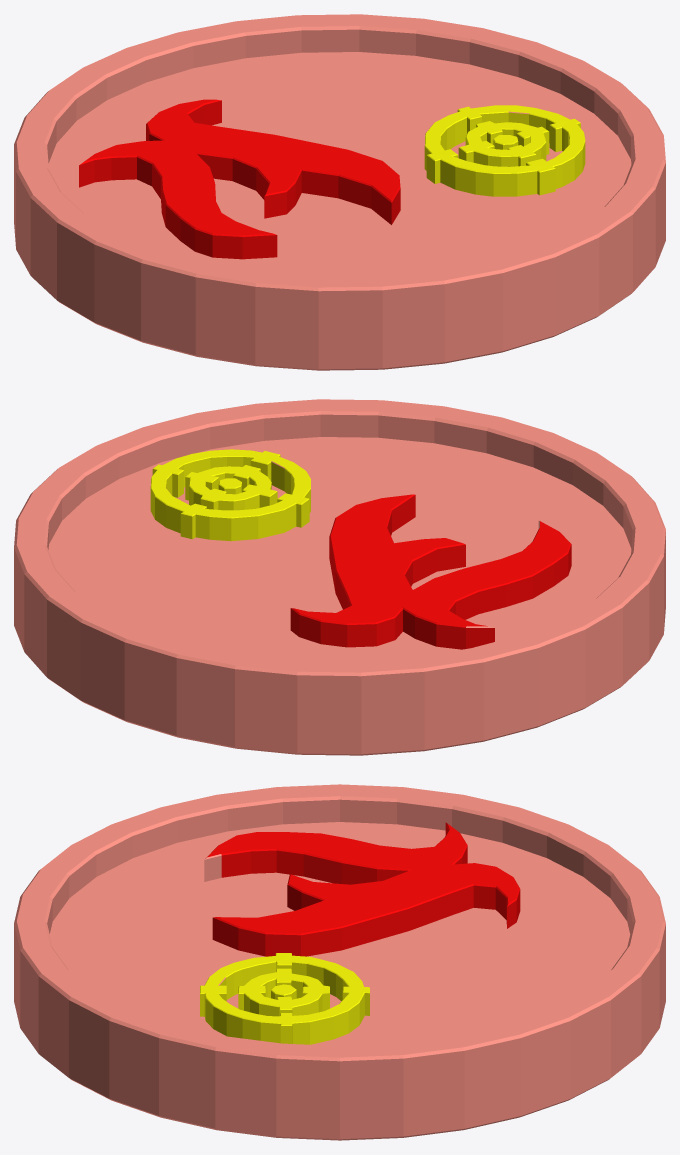
Rendered from FlamethrowerRangeUpgrade.fbx.
3 renders of one model, top to bottom at view 1: azimuth 30°, elevation 25°; view 2: azimuth 150°, elevation 25°; view 3: azimuth 270°, elevation 25°, orthographic.
Visible parts, largest first — view 1: Coin; view 2: Coin; view 3: Coin.
Boxes of the visible parts, x1,y1,x2,y2 form: Coin: (14,14,665,370); Coin: (14,399,665,755); Coin: (14,784,665,1140).
Bounding box in the file's own units: 200 × 28.06 × 200.
